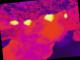Foc: (6, 14, 35, 32), (40, 10, 59, 26), (60, 8, 69, 20)
